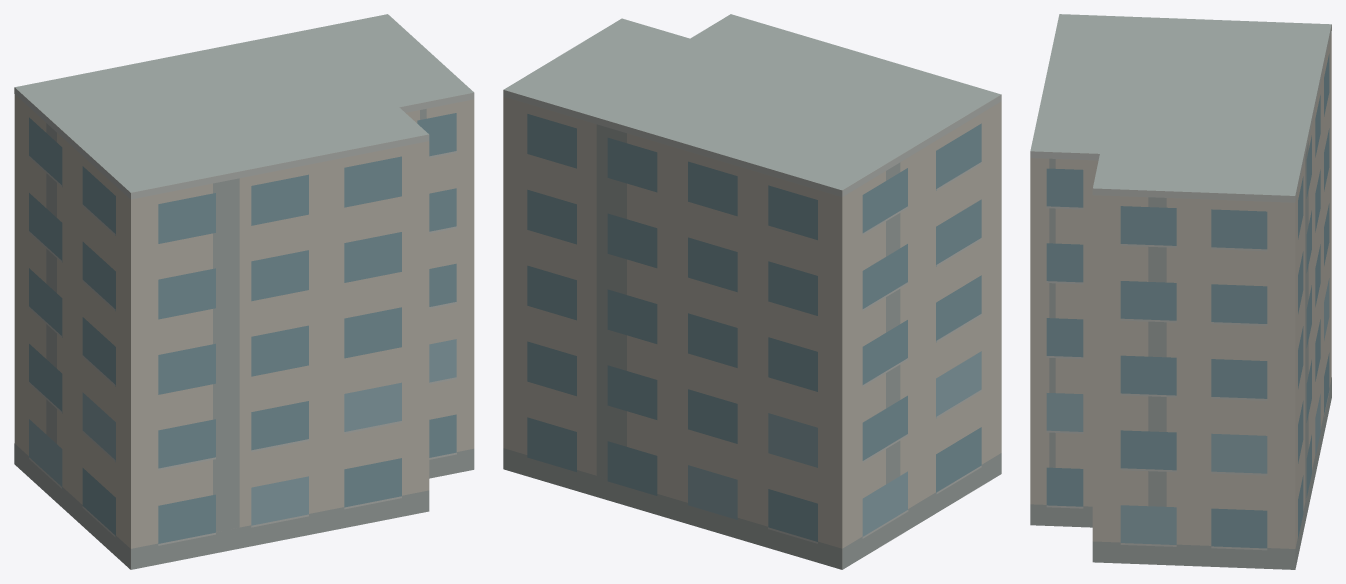
File: survey-upis-32964838.glb
The picture shows the model from 3 angles, left to right: view 1: azimuth 30°, elevation 25°; view 2: azimuth 150°, elevation 25°; view 3: azimuth 270°, elevation 25°; orthographic projection.
Visible parts, largest first — view 1: survey-upis-32964838.tmp; view 2: survey-upis-32964838.tmp; view 3: survey-upis-32964838.tmp.
Boxes of the visible parts, x1,y1,x2,y2 form: survey-upis-32964838.tmp: (14, 14, 474, 569); survey-upis-32964838.tmp: (503, 14, 1001, 569); survey-upis-32964838.tmp: (1030, 14, 1331, 569).
Bounding box in the file's own units: 14.21 × 13.6 × 9.95.
